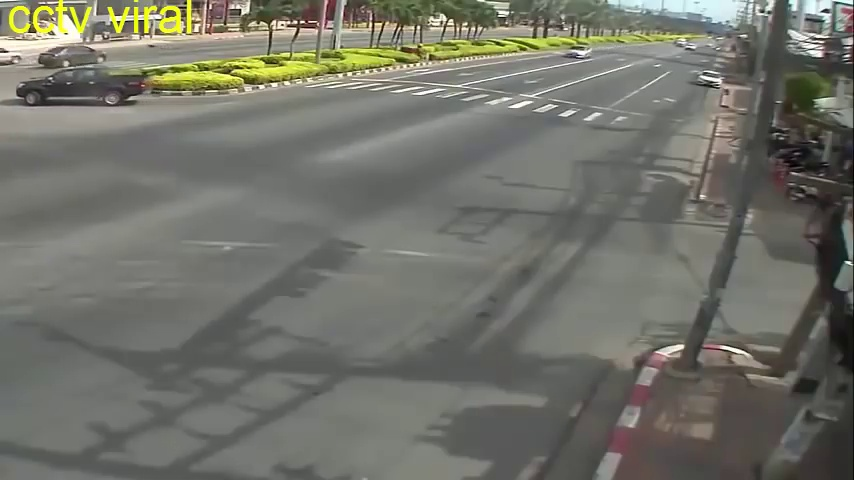car: (17, 63, 150, 111), (39, 41, 107, 71), (696, 68, 723, 91), (566, 44, 589, 63)
